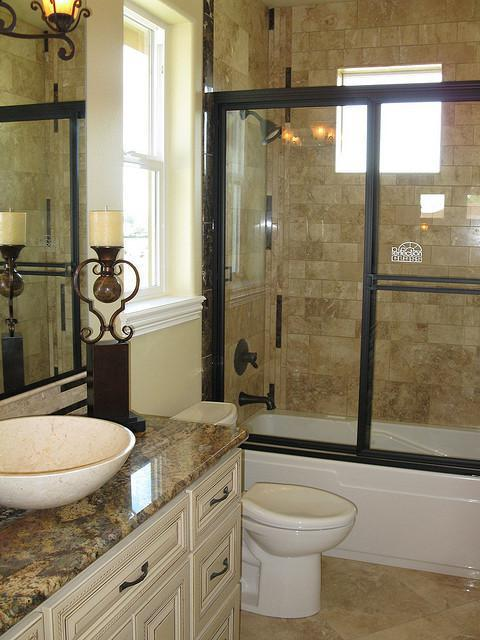Ducha: (208, 8, 479, 574)
Lavamanos: (0, 409, 142, 511)
Sanitario: (161, 395, 362, 620)
